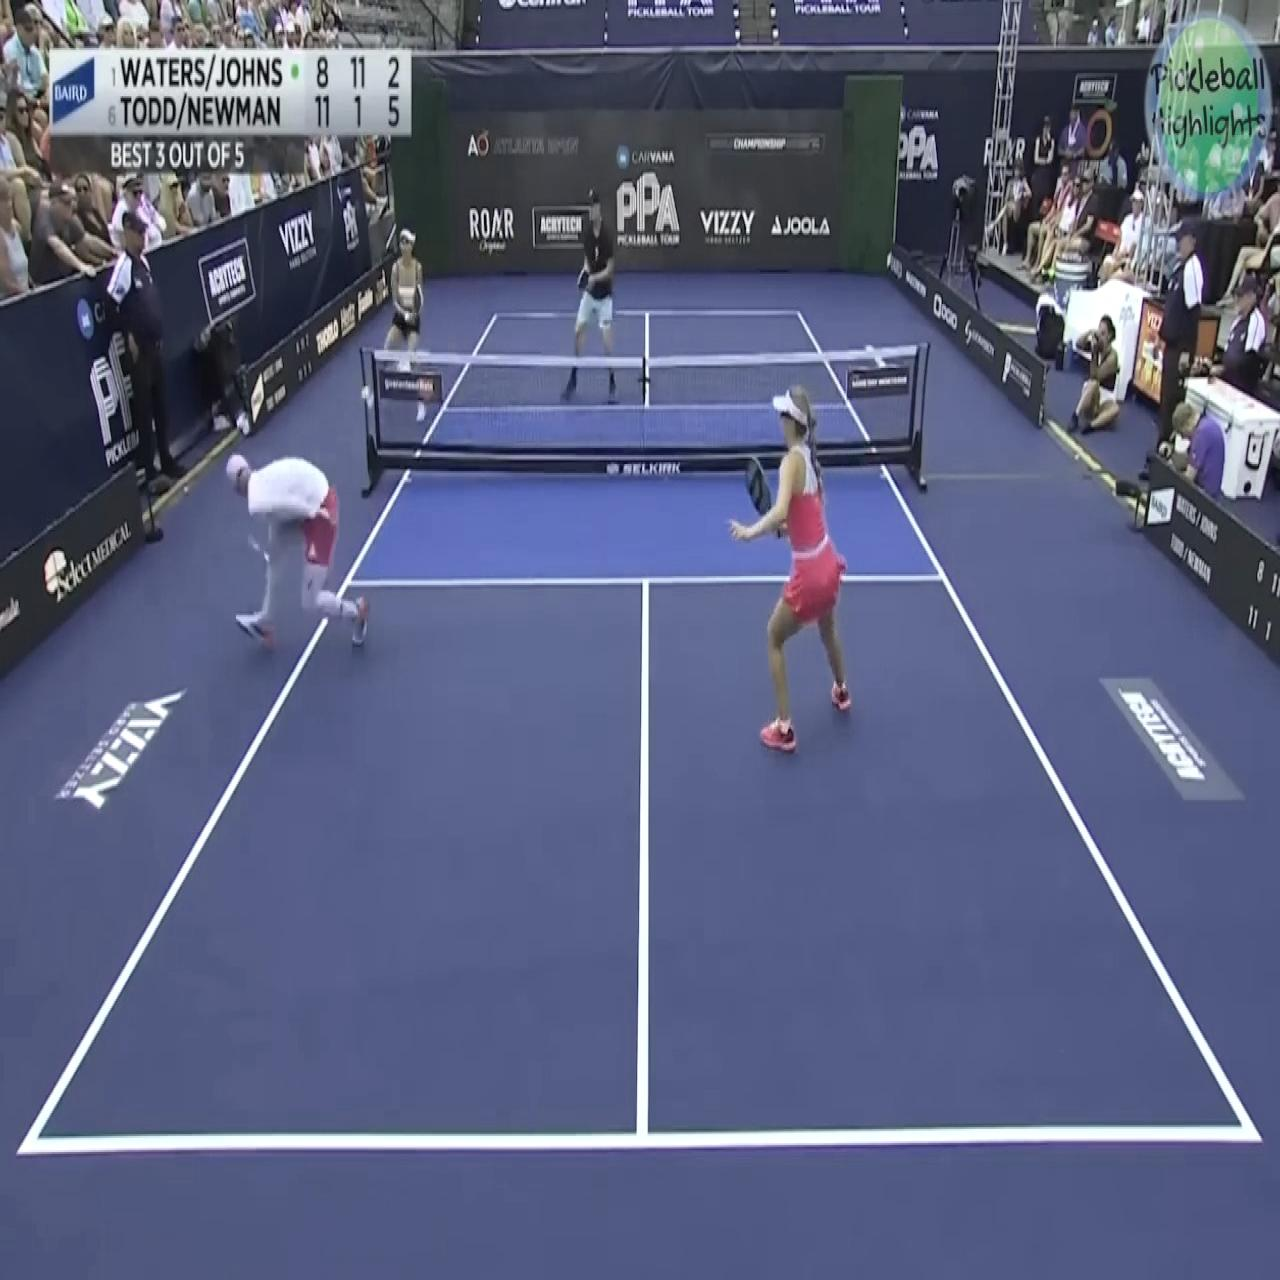Pickleball: (413, 406, 425, 430)
